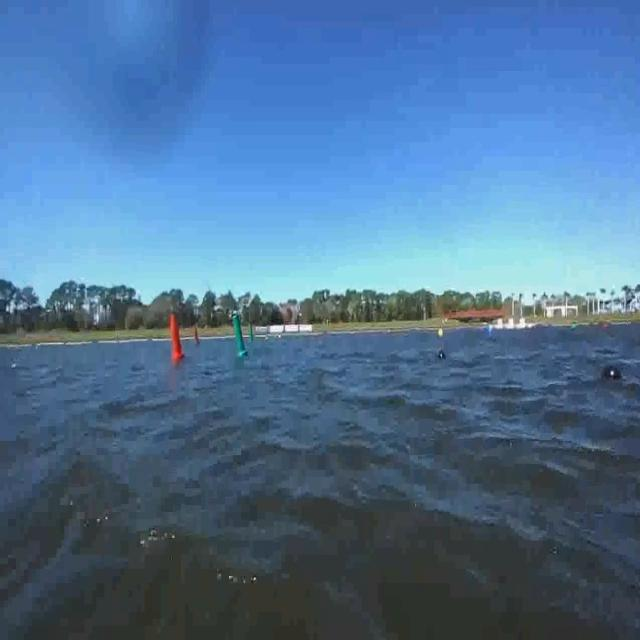blue-buoy: (600, 363, 622, 383), (436, 349, 447, 362)
green-column-buoy: (232, 314, 249, 357), (249, 324, 254, 341)
red-column-buoy: (168, 313, 185, 360), (192, 326, 199, 344)
yellow-buoy: (439, 326, 446, 338)
